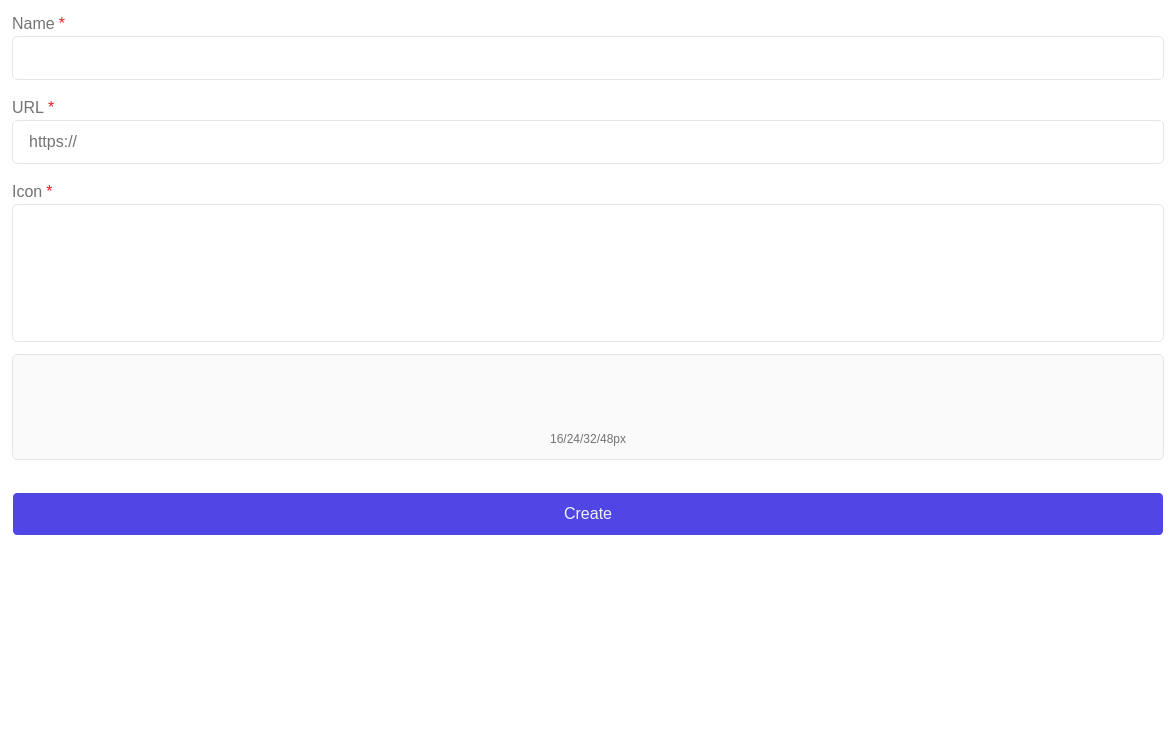
Test: SocialLinkAddForm › shows required errors when every field is empty
This screenshot has width=1176, height=732.
Click the button "Create" at (588, 514), box x1=12 y1=492 x2=1164 y2=536
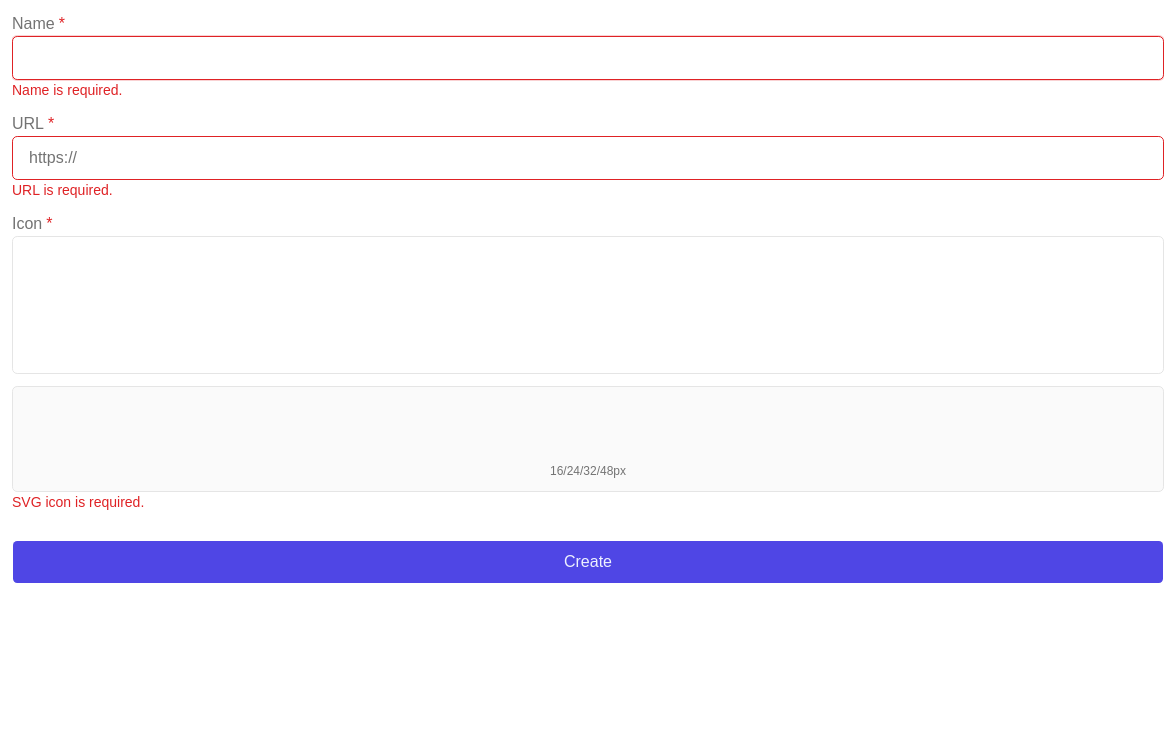
Result: the text "Name is required." is shown at x1=12 y1=80 x2=122 y2=100
Result: the text "URL is required." is shown at x1=12 y1=180 x2=113 y2=200
Result: the text "SVG icon is required." is shown at x1=12 y1=492 x2=144 y2=512
